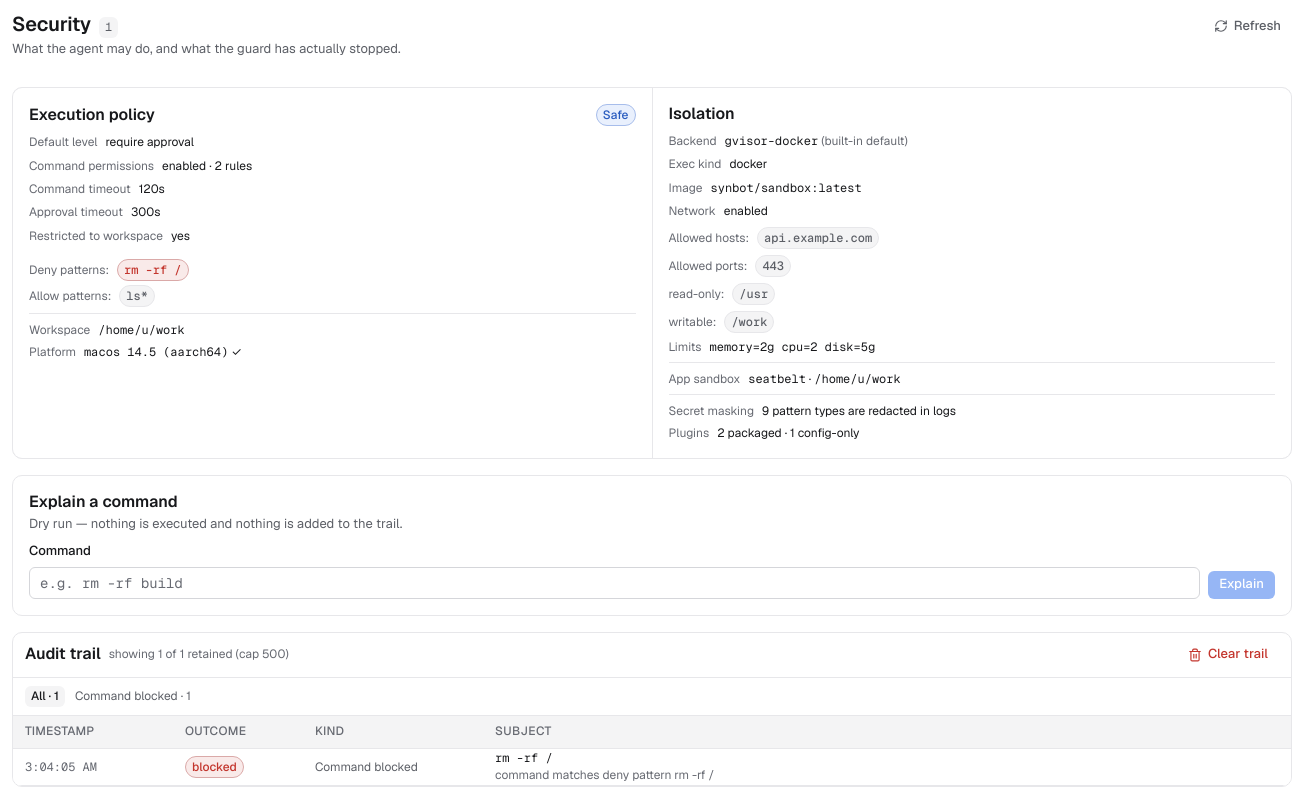
Test: Security › explains a blocked command with the rule that matched
Step 1. Type "  rm -rf build  " into the field with placeholder "e.g. rm -rf build" → (615, 583), box [29, 567, 1200, 599]
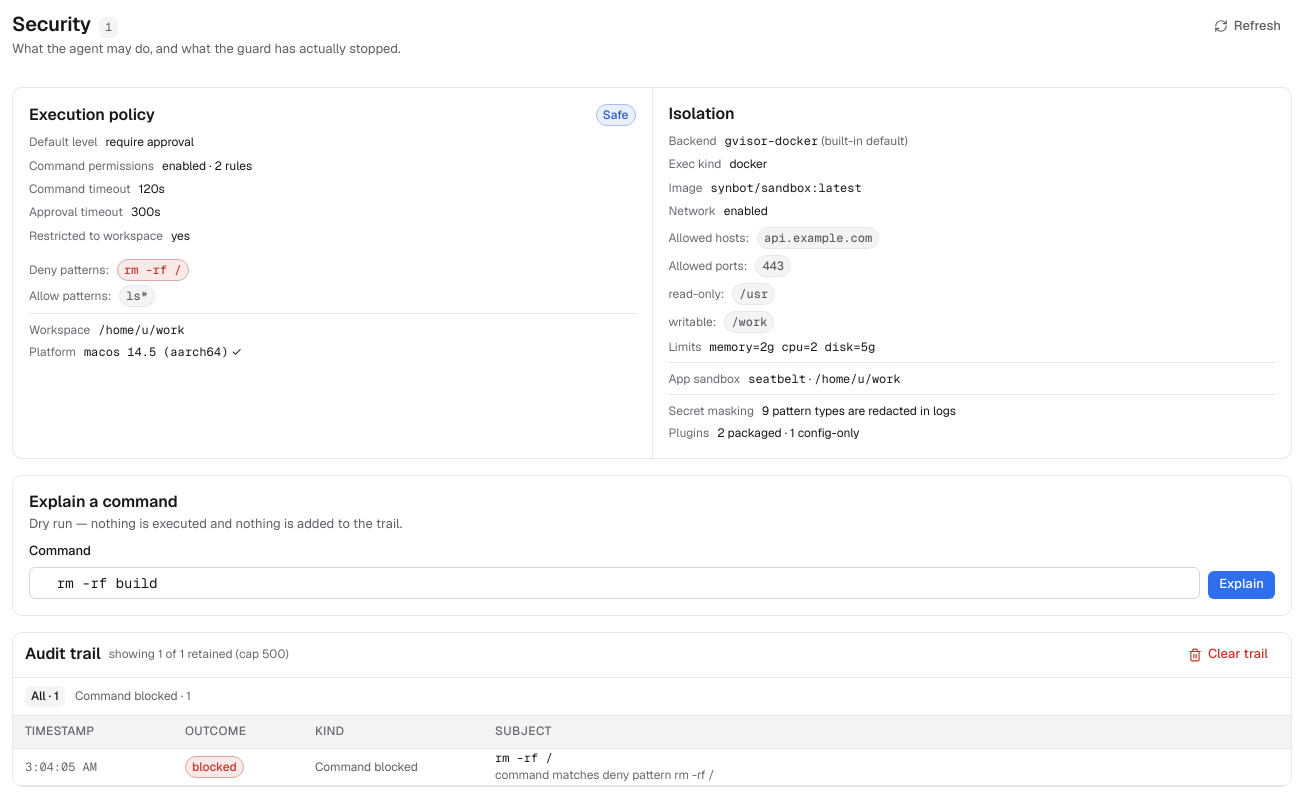
Step 2. Click the button "Explain" → (1242, 585), box [1208, 571, 1275, 599]
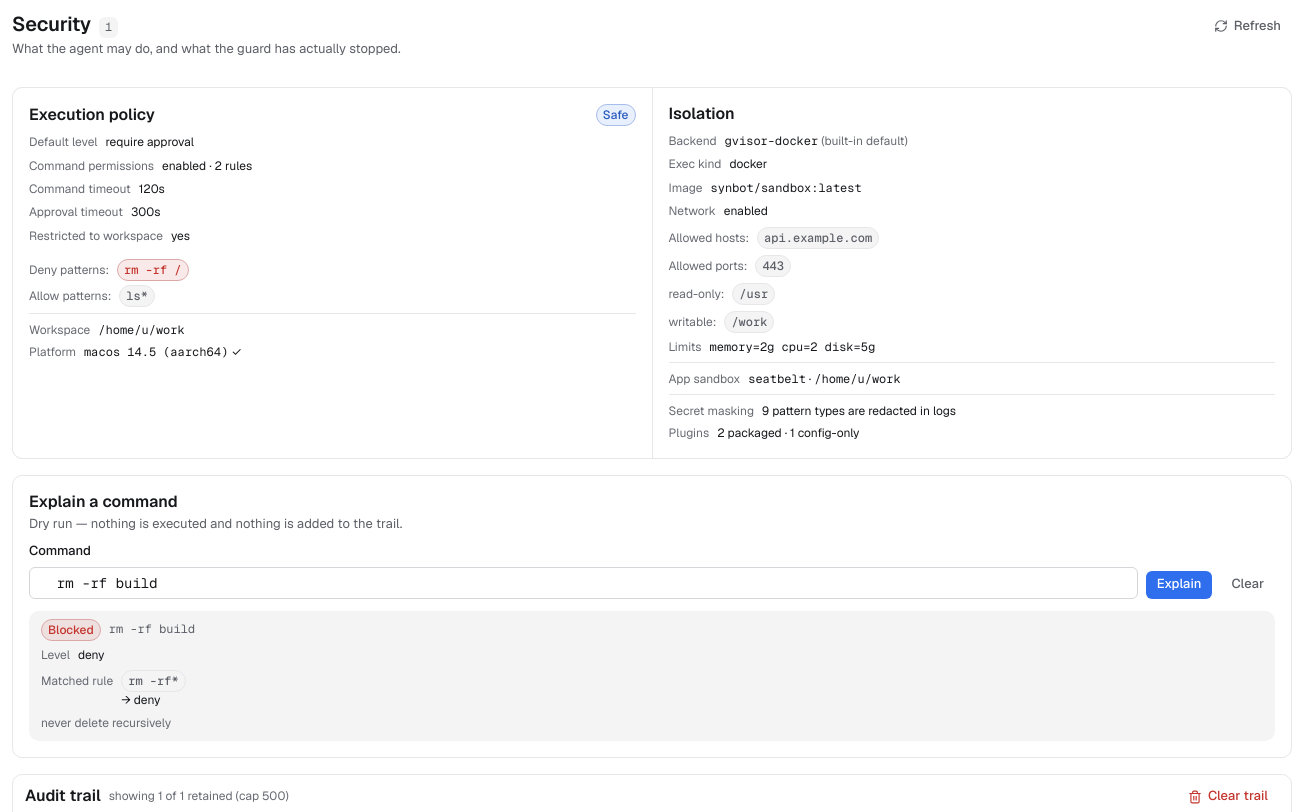
Expected: the text "Blocked" is shown, [41, 619, 101, 641]
Expected: the text "rm -rf*" is shown, [128, 673, 179, 689]
Expected: the text "never delete recursively" is shown, [41, 715, 171, 731]
